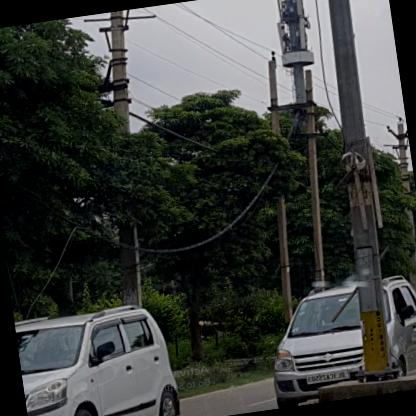car: (260, 269, 415, 409), (14, 298, 183, 415)
